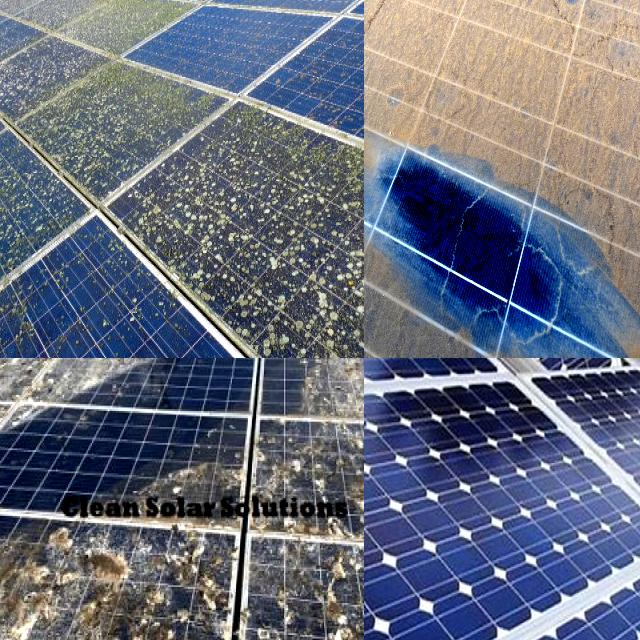bird: (59, 540, 170, 578), (0, 598, 43, 640)
crack: (364, 377, 640, 640), (364, 549, 640, 640), (533, 360, 640, 555)
dust: (424, 38, 562, 226), (364, 0, 505, 144), (0, 234, 149, 358), (189, 206, 364, 297), (364, 138, 448, 315), (188, 136, 354, 209), (576, 49, 640, 238), (36, 62, 119, 200), (364, 147, 416, 358), (425, 0, 545, 85), (0, 94, 49, 266), (557, 0, 640, 100), (0, 0, 100, 72), (396, 328, 571, 358)
